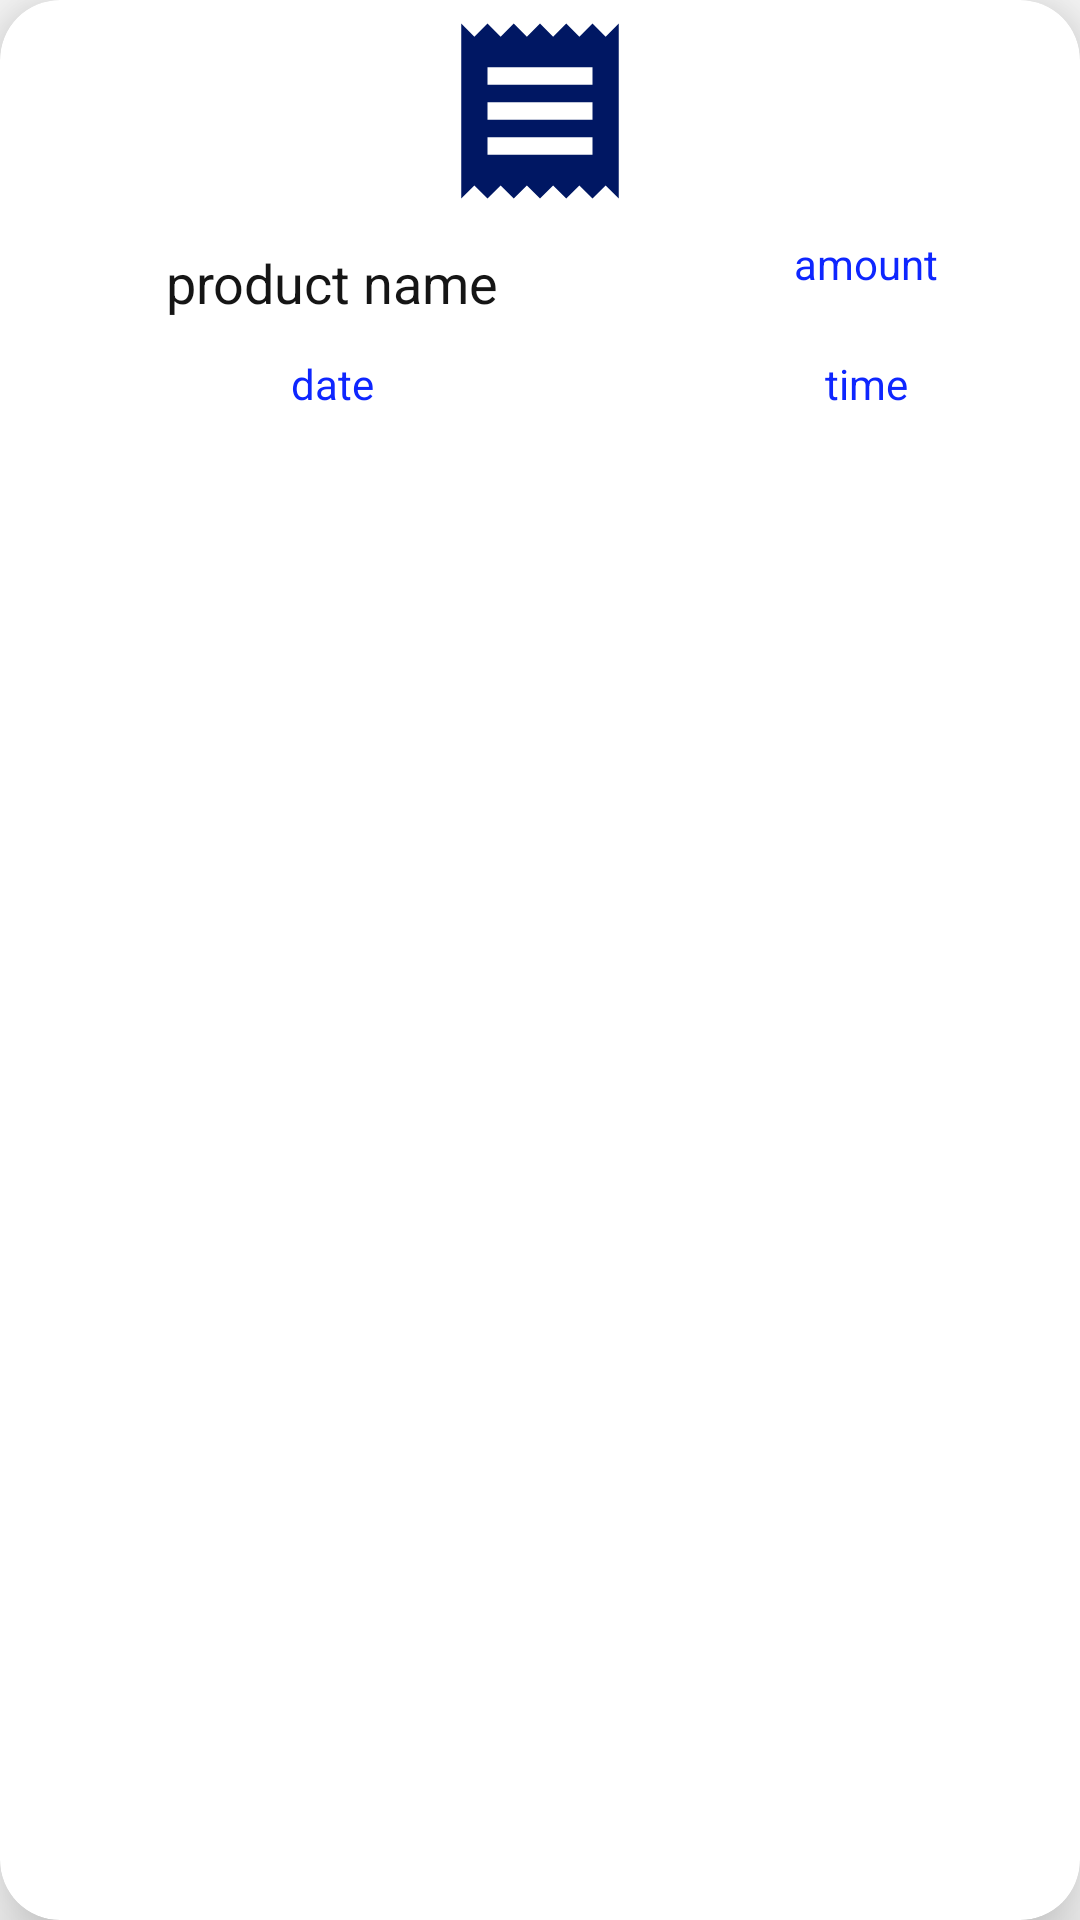

Named icons in this screenshot (1080px×1920px) and their centers, (x,y):
receipt: (540,111)
